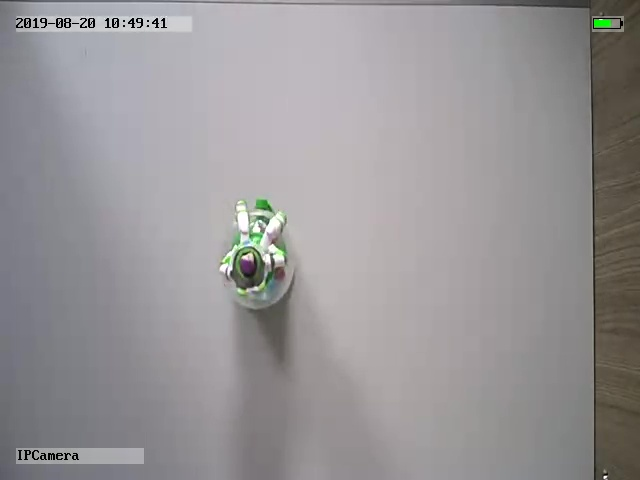buzz: (217, 197, 297, 314)
